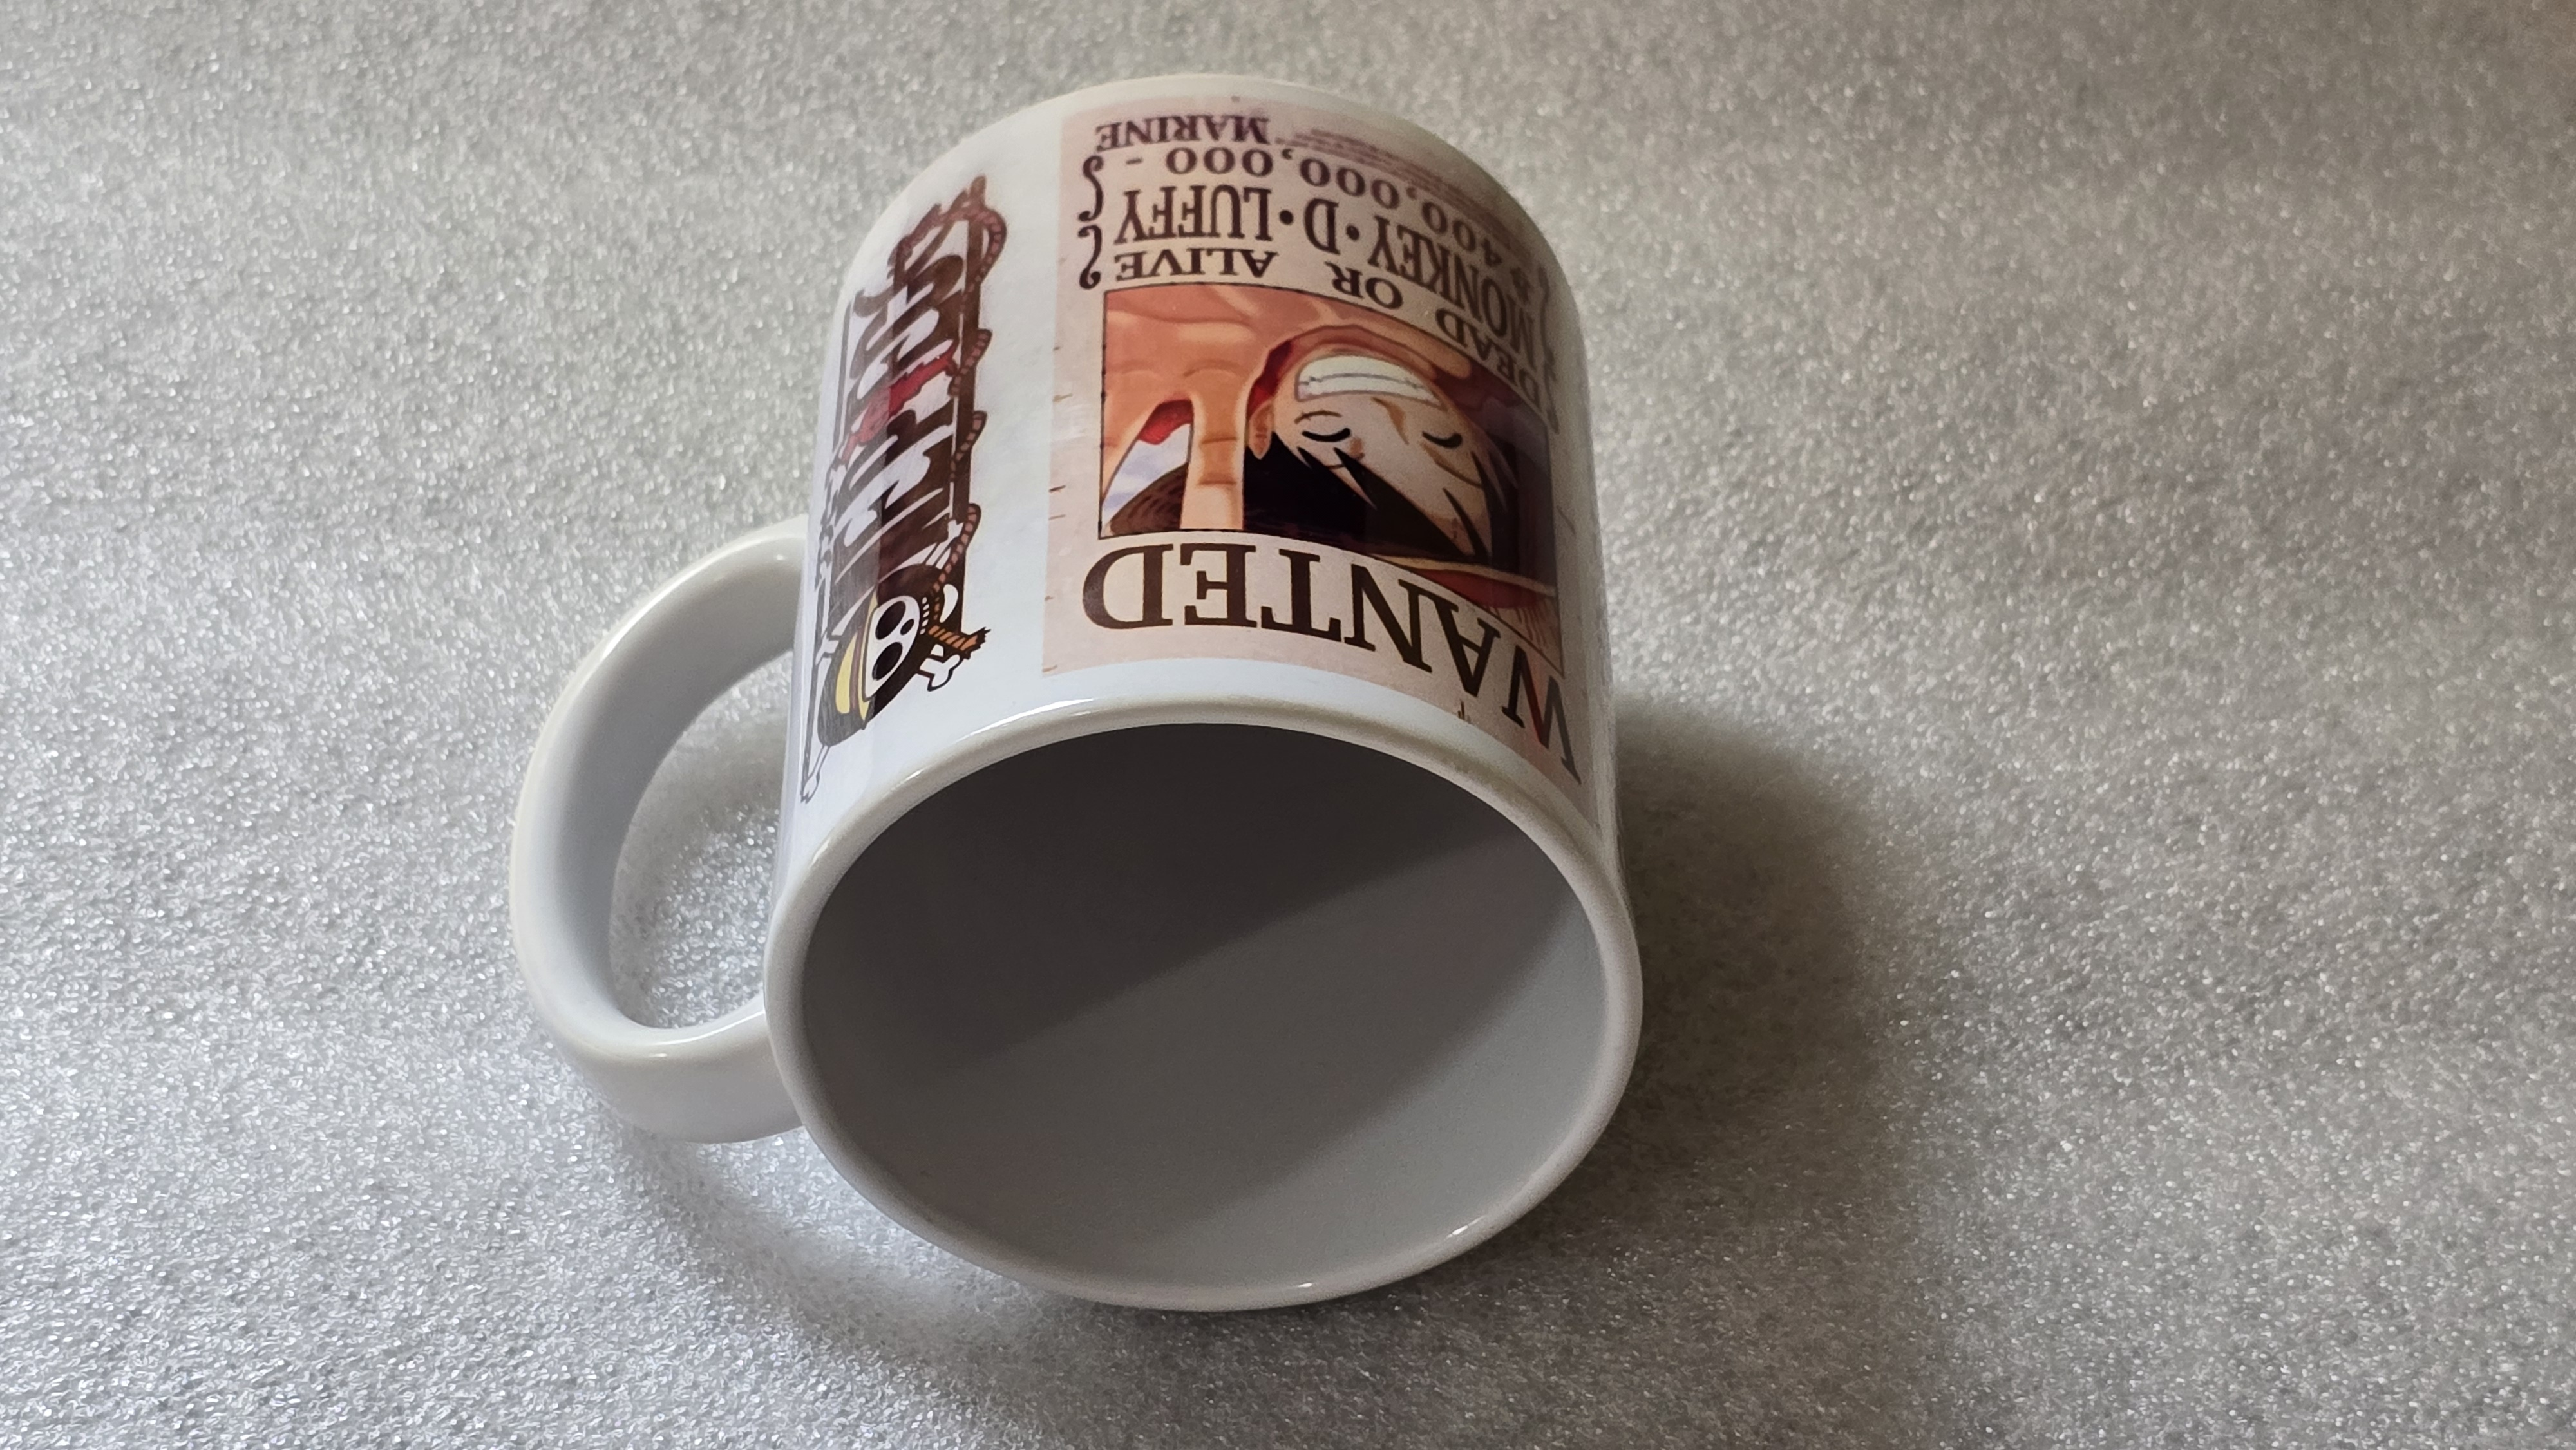mug: (501, 42, 1734, 1337)
